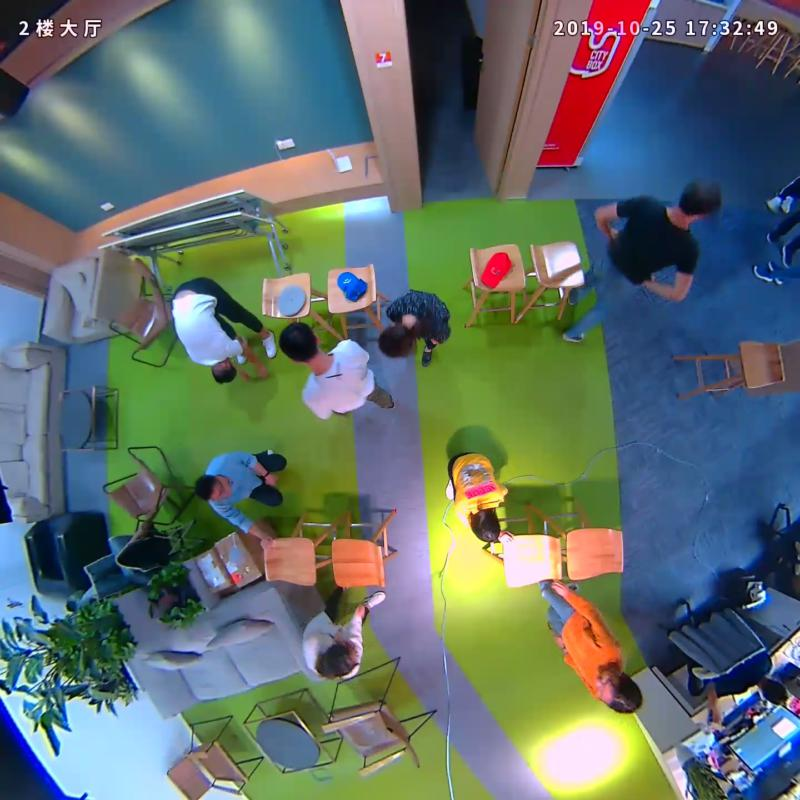head: (588, 662, 647, 717), (270, 315, 323, 369), (672, 177, 729, 226), (315, 636, 370, 682), (369, 317, 419, 364), (463, 503, 509, 548), (188, 471, 232, 508), (201, 354, 244, 390)
